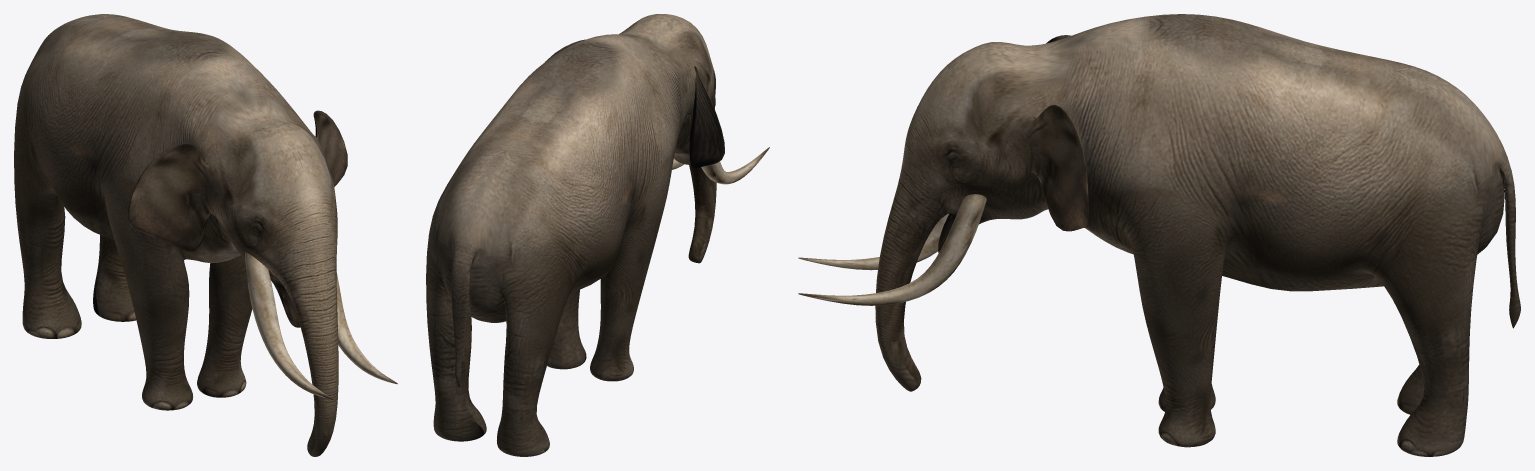
File: 08 Elephas (ช้างเอลิฟาส).fbx
The picture shows the model from 3 angles, left to right: view 1: azimuth 30°, elevation 25°; view 2: azimuth 150°, elevation 25°; view 3: azimuth 270°, elevation 25°; orthographic projection. The views are drawn at different scales.
Parts seen in each view (by area): view 1: Cube, Cube.001; view 2: Cube, Cube.001; view 3: Cube, Cube.001.
Part boxes in pixels (<box>): Cube: <box>14,14,347,456</box>; Cube.001: <box>245,252,397,399</box>; Cube: <box>426,14,724,456</box>; Cube.001: <box>672,147,769,184</box>; Cube: <box>875,14,1520,456</box>; Cube.001: <box>798,194,986,305</box>.
Size of the model in its own units: 576 by 882 by 1441.
1 material, 1 textured.
